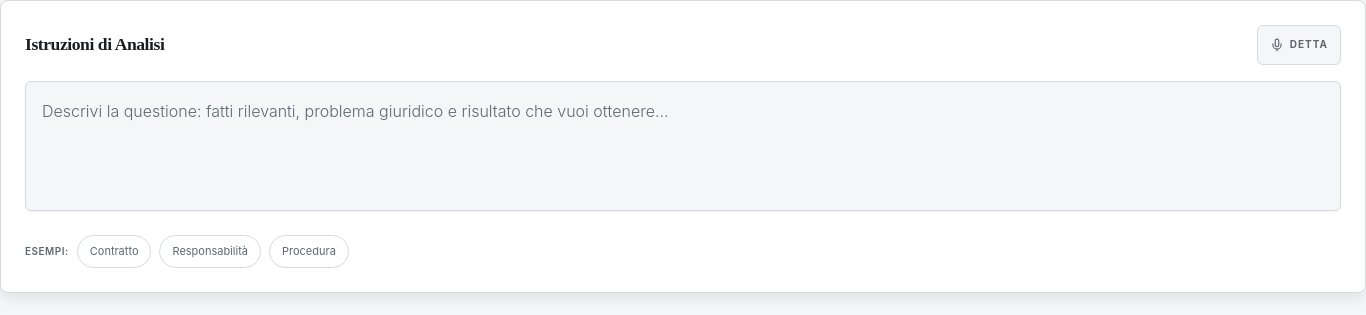
Test: AnalysisPromptSection Component Suite › arresta la registrazione al secondo click sul pulsante
The width and height of the screenshot is (1366, 315).
Primo click: avvia
Click the button "Detta".
click(1299, 45)  # box [1257,25,1341,65]
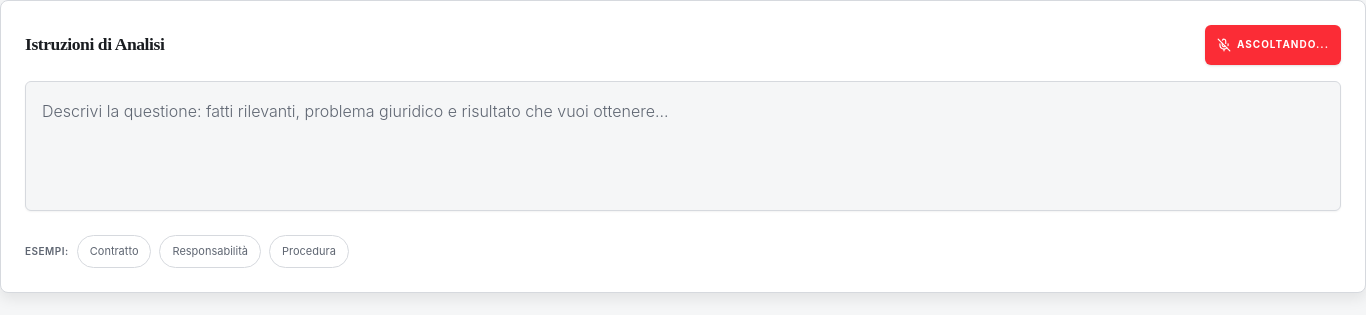
Secondo click: ferma
Click the button named "detta".
click(1273, 45)  # box [1205,25,1341,65]
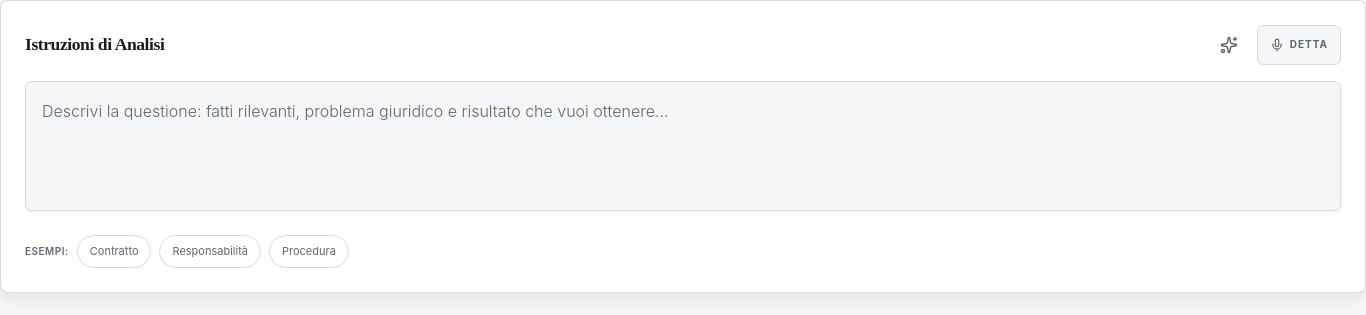
Check: the text "Detta" is shown, box [1290,36,1328,54]
